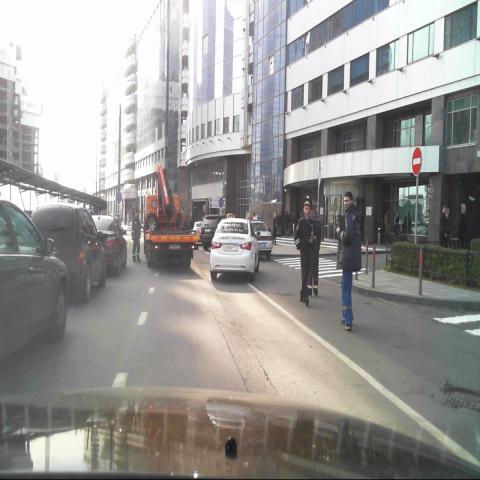3_1: (410, 145, 422, 178)
